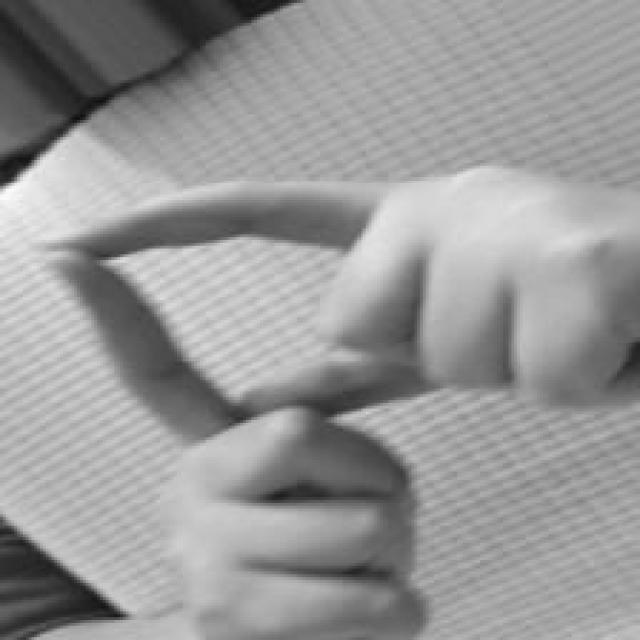D: (28, 171, 640, 640)
